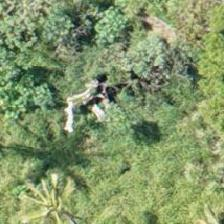coconut_tree: (7, 160, 97, 223)
